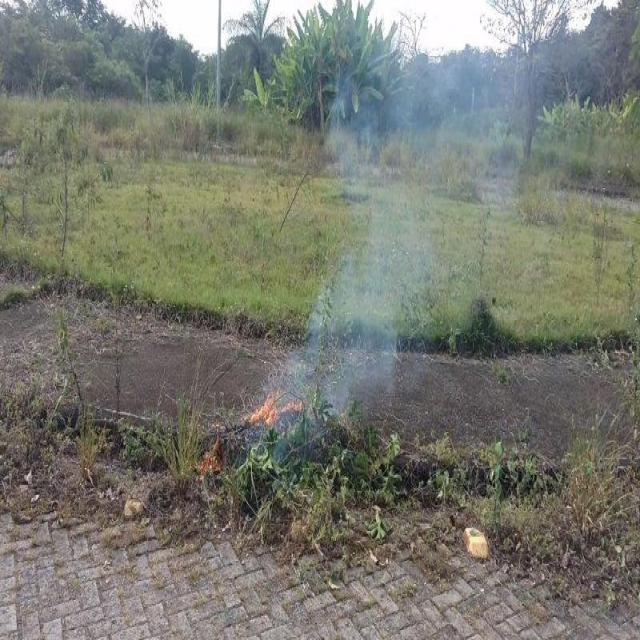Fire: (245, 388, 302, 424)
Smoke: (324, 71, 420, 258), (333, 258, 398, 422), (270, 275, 332, 392)
